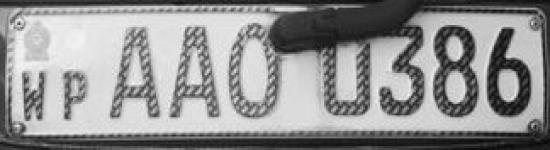0: (312, 25, 376, 123)
3: (376, 19, 431, 122)
6: (483, 19, 534, 124)
8: (432, 16, 483, 121)
A: (100, 23, 164, 126), (166, 21, 221, 121)
O: (221, 24, 286, 125)
P: (57, 68, 93, 124)
W: (18, 65, 51, 124)
